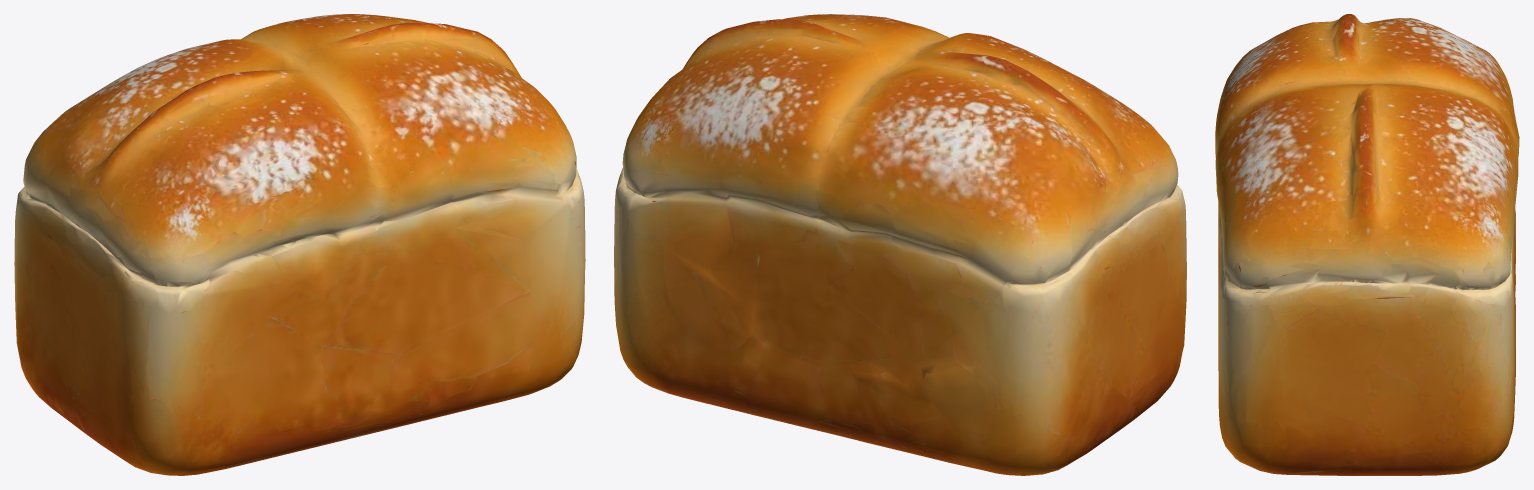
File: loaf.glb
3 views of the same model, side by side, from view 1: azimuth 30°, elevation 25°; view 2: azimuth 150°, elevation 25°; view 3: azimuth 270°, elevation 25° (orthographic). The views are drawn at different scales.
Size of the model in its own units: 1.9 by 1.37 by 1.17.
Materials: 1 (1 with a texture image).
